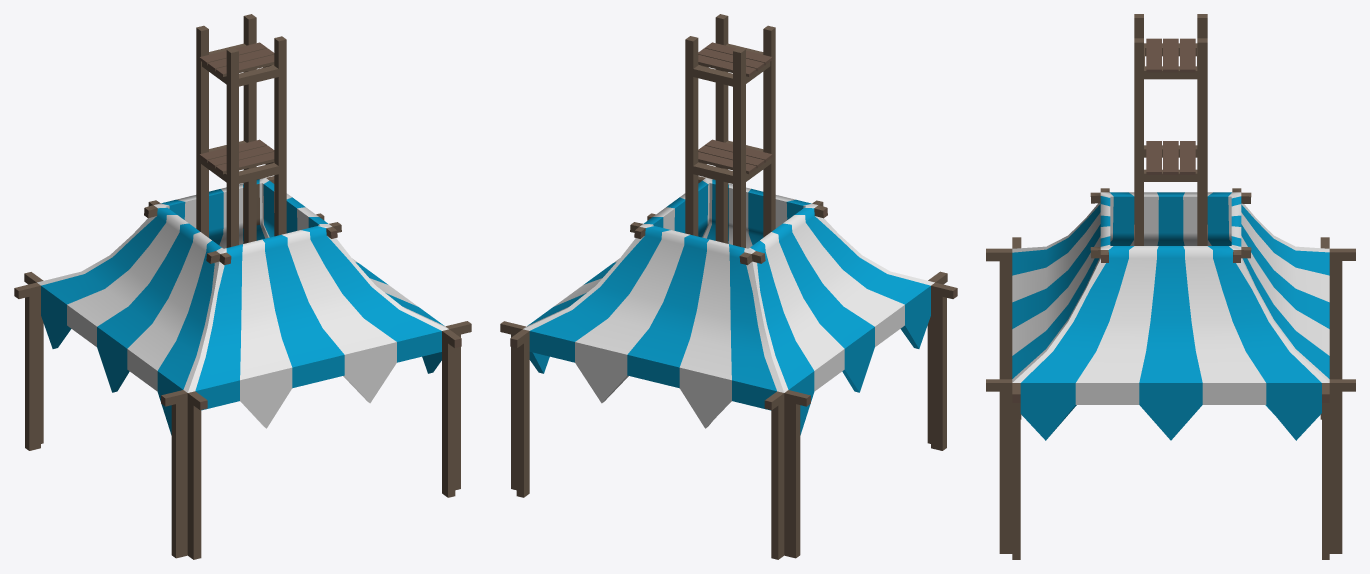
File: FMP_Storage_Tent_Shaded.fbx
The picture shows the model from 3 angles, left to right: view 1: azimuth 30°, elevation 25°; view 2: azimuth 150°, elevation 25°; view 3: azimuth 270°, elevation 25°; orthographic projection. The views are drawn at different scales.
Visible parts, largest first — view 1: pCube27; view 2: pCube27; view 3: pCube27.
Boxes of the visible parts, x1,y1,x2,y2 form: pCube27: (14, 14, 471, 559); pCube27: (500, 14, 957, 559); pCube27: (986, 14, 1355, 559).
Size of the model in its own units: 759 by 1032 by 756.
